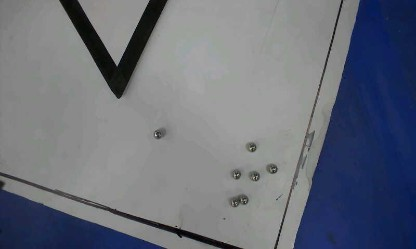ironball: (152, 127, 165, 139), (249, 170, 259, 182), (267, 163, 277, 174), (231, 169, 241, 179), (239, 194, 248, 204), (248, 141, 256, 152), (230, 198, 239, 207)
